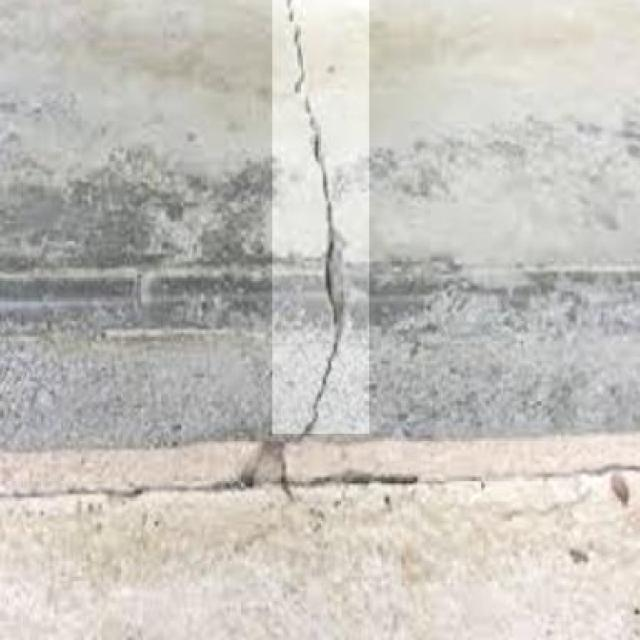Crack: (280, 0, 344, 438)
